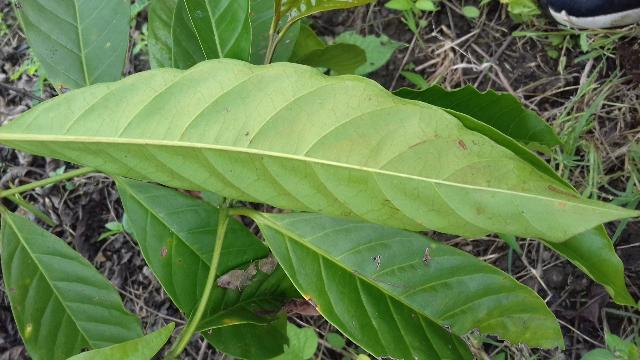rust_level_1: (1, 64, 639, 237)
